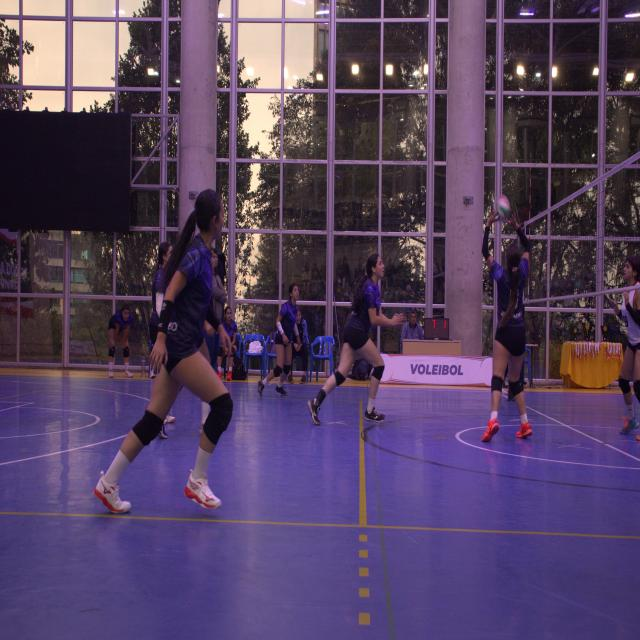volleyball: (493, 196, 510, 219)
